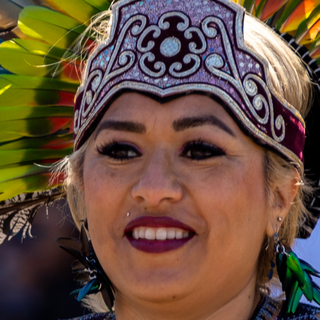eye: (176, 136, 232, 166), (95, 139, 148, 166)
